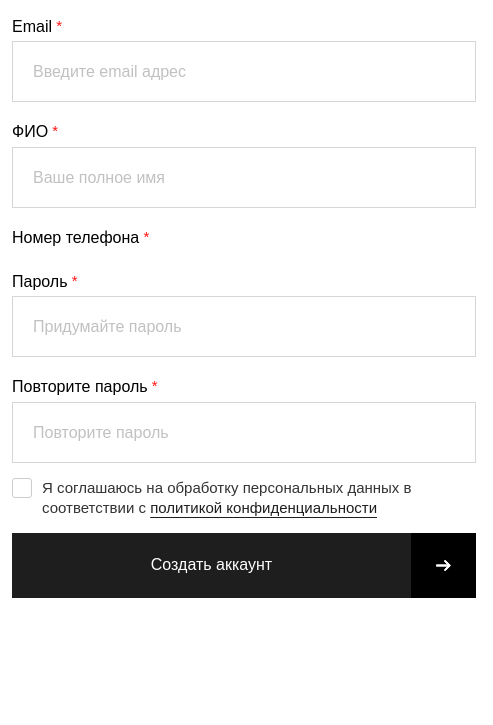
Test: RegistrationForm › Валидация полей › должен показать ошибку для невалидного email
Type "invalid-email" into the field with test id "RegistrationForm.email" at (244, 72), box [12, 41, 476, 102]
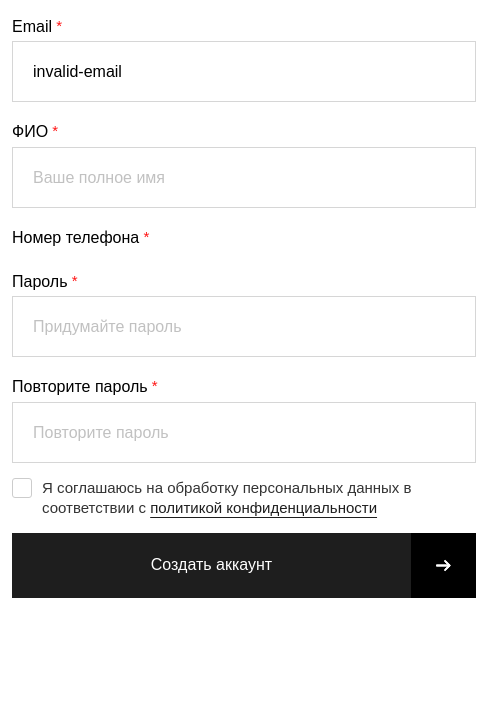
Click the button with test id "RegistrationForm.submitBtn" at (244, 565), box [12, 533, 476, 598]
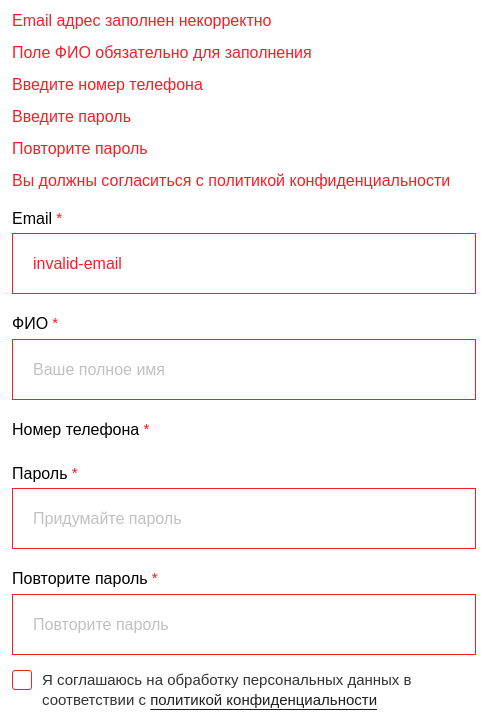
Result: the text "Email адрес заполнен некорректно" is shown at [12, 12, 272, 29]
